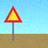sign: (4, 6, 22, 41)
